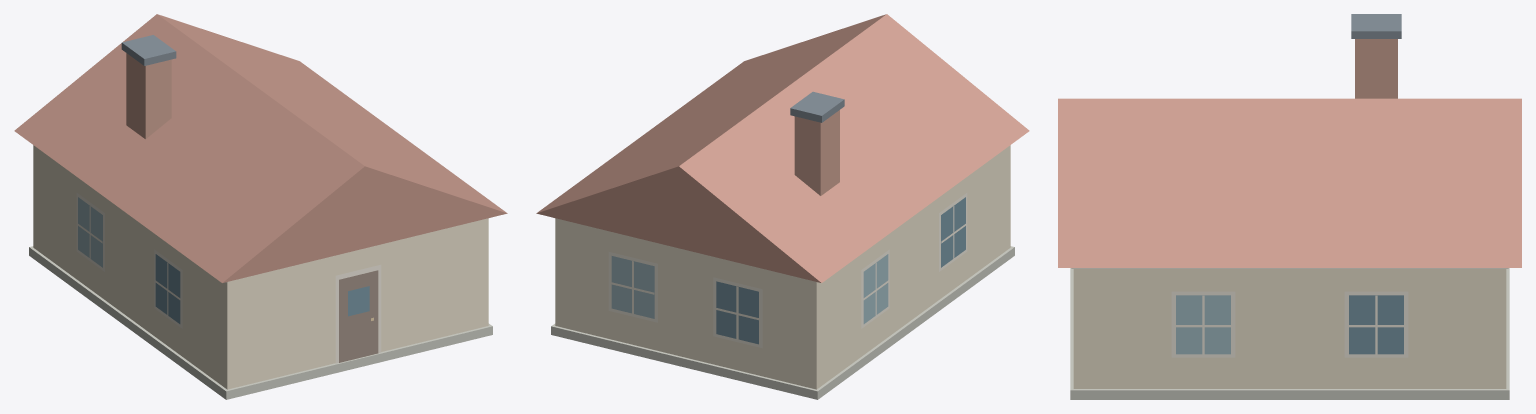
File: house-cottage-cream.glb
3 views of the same model, side by side, from view 1: azimuth 30°, elevation 25°; view 2: azimuth 150°, elevation 25°; view 3: azimuth 270°, elevation 25° (orthographic). The views are drawn at different scales.
Parts seen in each view (by area): view 1: house-cottage-cream; view 2: house-cottage-cream; view 3: house-cottage-cream.
Boxes of the visible parts, x1=… form: house-cottage-cream: x1=14, y1=14, x2=507, y2=399; house-cottage-cream: x1=536, y1=14, x2=1029, y2=399; house-cottage-cream: x1=1058, y1=14, x2=1521, y2=399.
Size of the model in its own units: 7.65 by 6.09 by 9.65.
